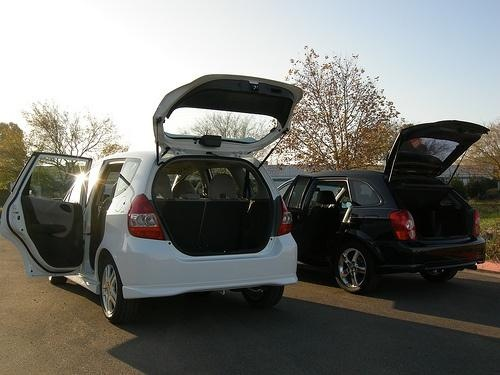car: (4, 77, 312, 322), (294, 118, 495, 292)
